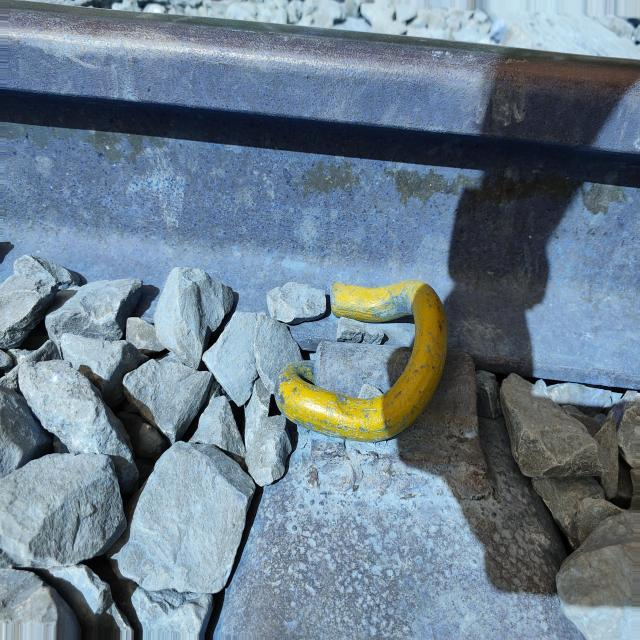Good Fasteners: (275, 281, 491, 502)
